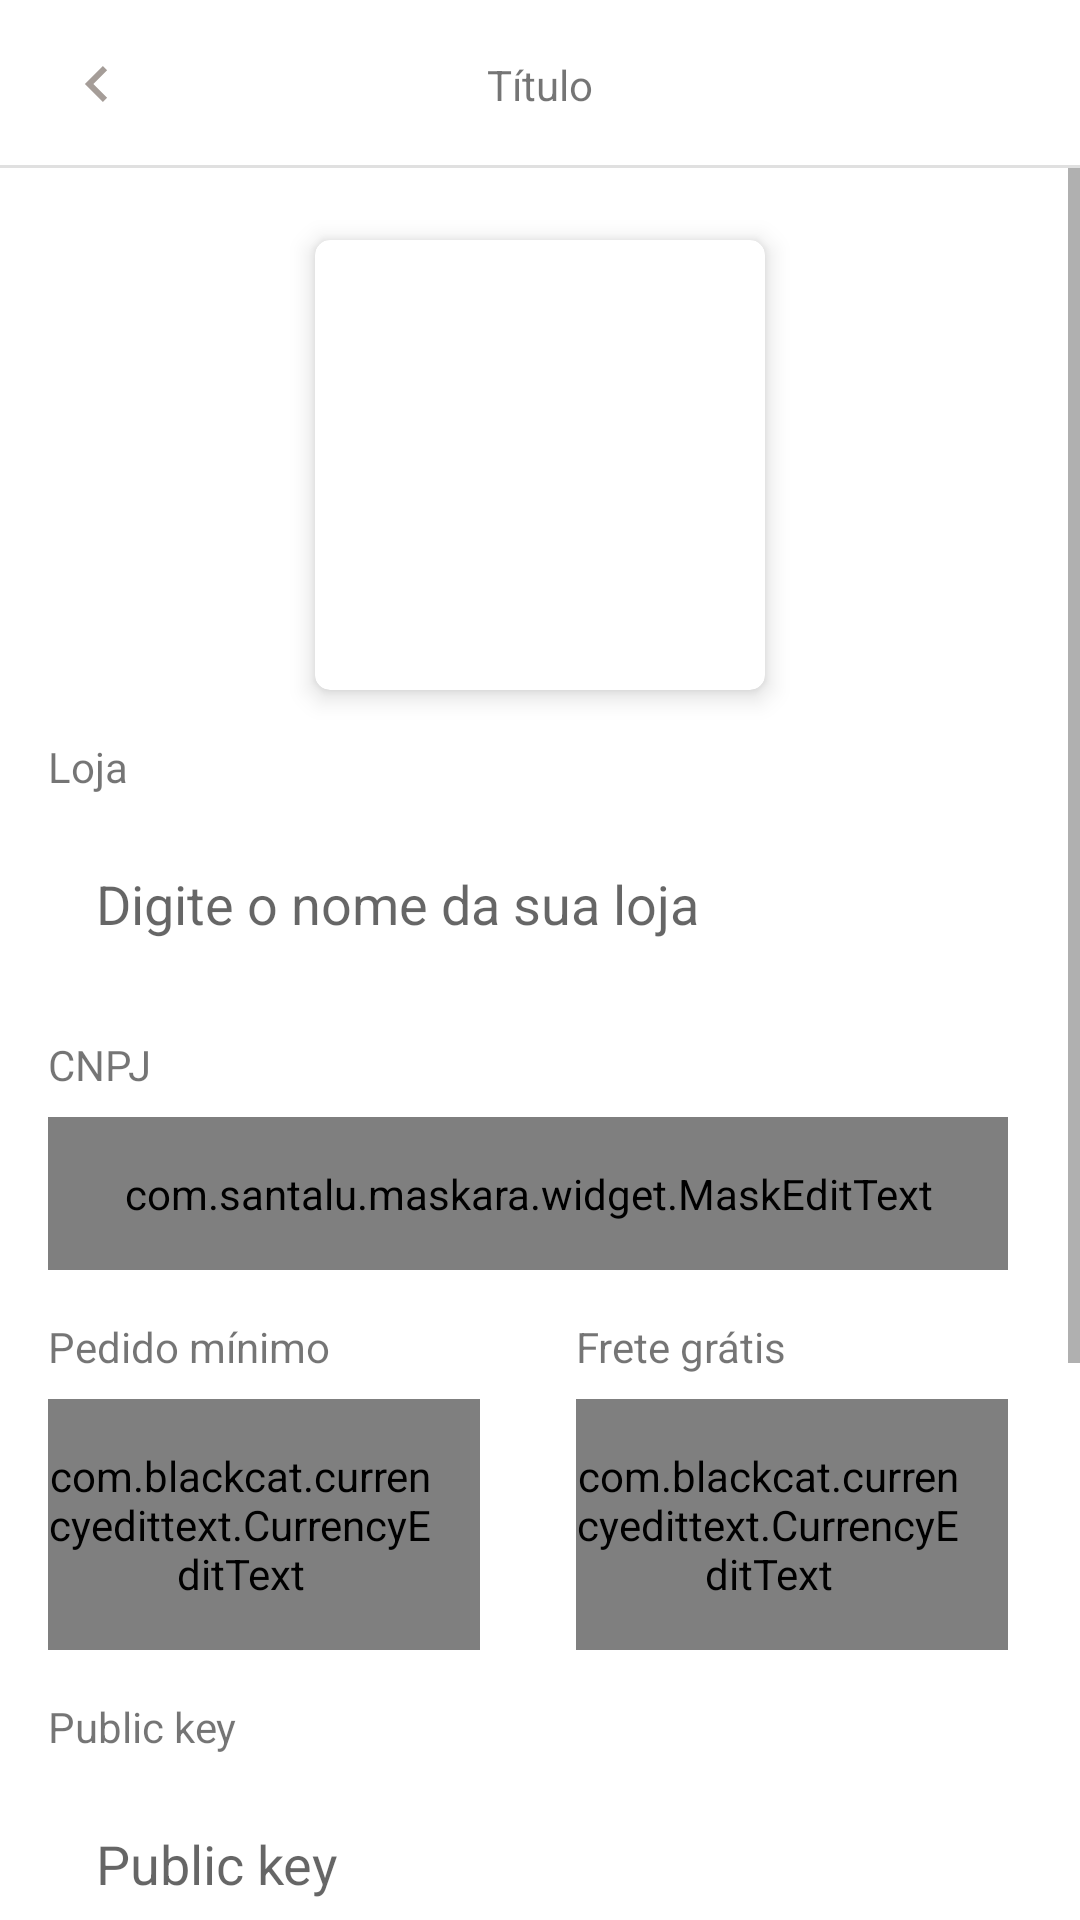

Where icons sit on this 1080*1920 app screen, as (x1, y1, x2, y2):
voltar: (85, 66, 107, 102)
